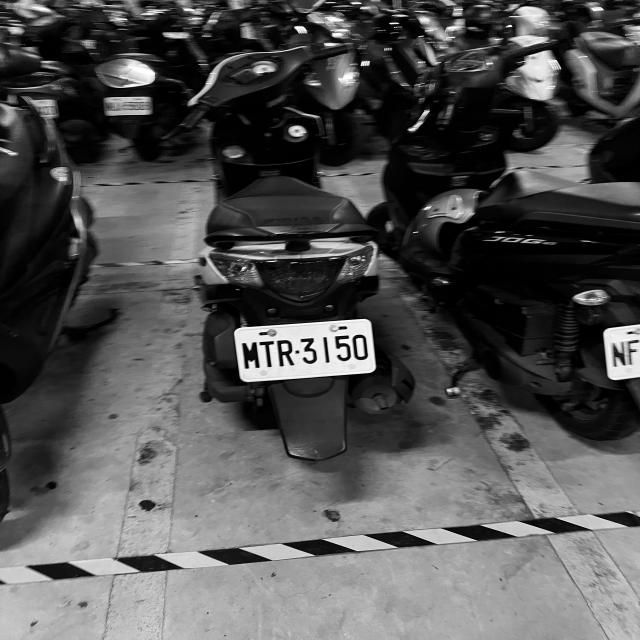-: (293, 348, 302, 356)
0: (351, 331, 371, 361)
1: (320, 335, 330, 363)
3: (299, 334, 319, 364)
5: (332, 332, 353, 360)
F: (627, 338, 639, 364)
M: (241, 340, 261, 368)
N: (610, 341, 628, 367)
R: (275, 338, 295, 367)
T: (260, 340, 276, 368)
plate: (228, 326, 378, 376), (104, 97, 150, 117)
